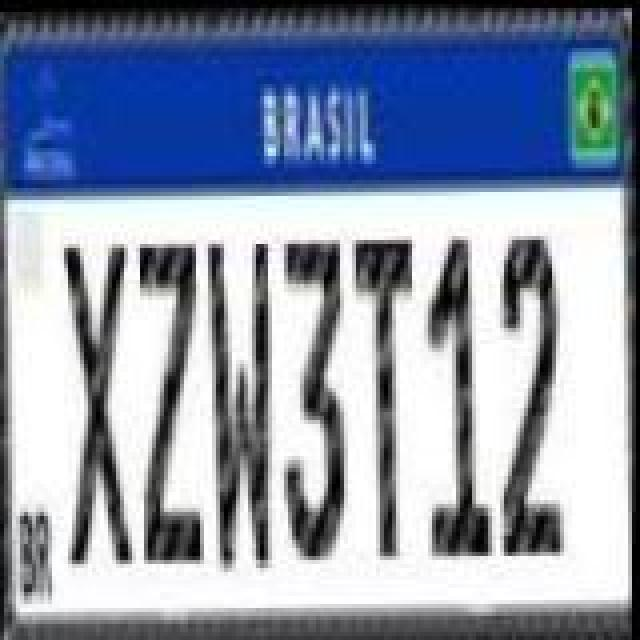1: (416, 224, 500, 564)
2: (490, 226, 570, 554)
3: (270, 226, 350, 566)
T: (346, 224, 426, 564)
W: (200, 234, 284, 574)
X: (56, 238, 140, 566)
Z: (130, 236, 210, 564)
